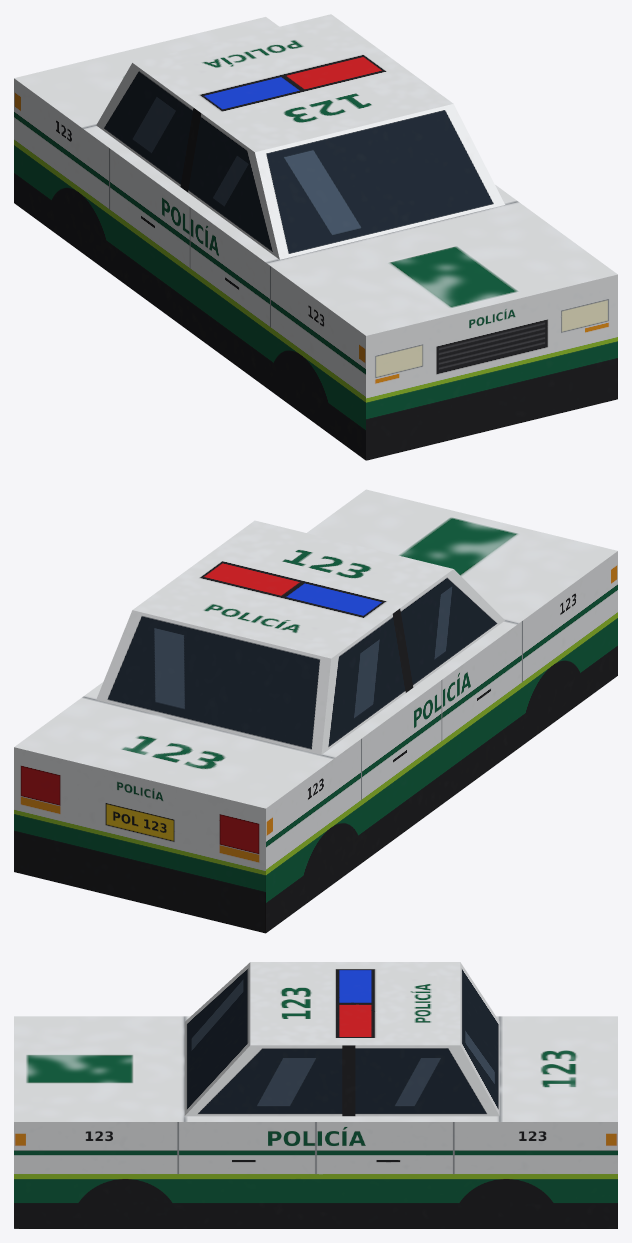
The model's file is Patrulla_Car.obj.
3 renders of one model, top to bottom at view 1: azimuth 30°, elevation 25°; view 2: azimuth 150°, elevation 25°; view 3: azimuth 270°, elevation 25°, orthographic. The views are drawn at different scales.
Parts seen in each view (by area): view 1: Car_Body; view 2: Car_Body; view 3: Car_Body.
Part boxes in pixels (left/top/right/bottom): Car_Body: left=14, top=14, right=617, bottom=460; Car_Body: left=14, top=489, right=617, bottom=933; Car_Body: left=14, top=962, right=617, bottom=1228.
Bounding box in the file's own units: 1.9 × 1.45 × 4.6.
1 material, 1 textured.
